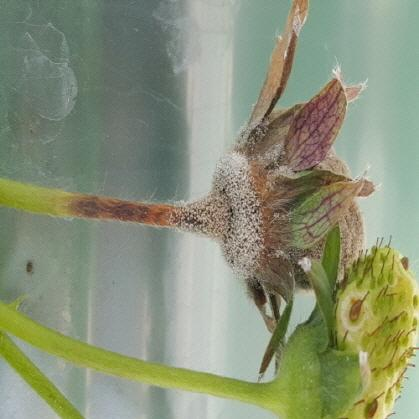Gray Mold: (139, 0, 378, 340)
